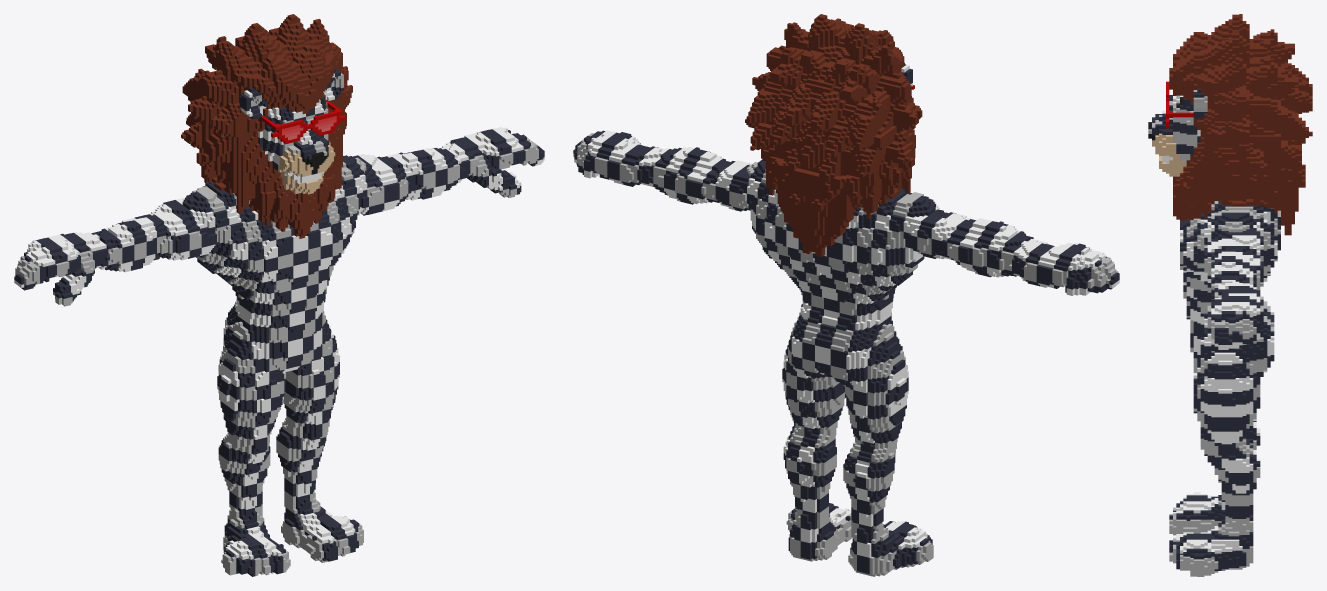
File: 922-BieBXwy3.glb
3 views of the same model, side by side, from view 1: azimuth 30°, elevation 25°; view 2: azimuth 150°, elevation 25°; view 3: azimuth 270°, elevation 25° (orthographic). The views are drawn at different scales.
Visible parts, largest first — view 1: big_smile; view 2: big_smile; view 3: big_smile.
Boxes of the visible parts, left/top/right/bottom form: big_smile: left=14, top=14, right=544, bottom=576; big_smile: left=573, top=14, right=1119, bottom=576; big_smile: left=1148, top=14, right=1312, bottom=576.
Size of the model in its own units: 17.2 by 16.5 by 4.7.
Materials: 4 (4 with a texture image).
